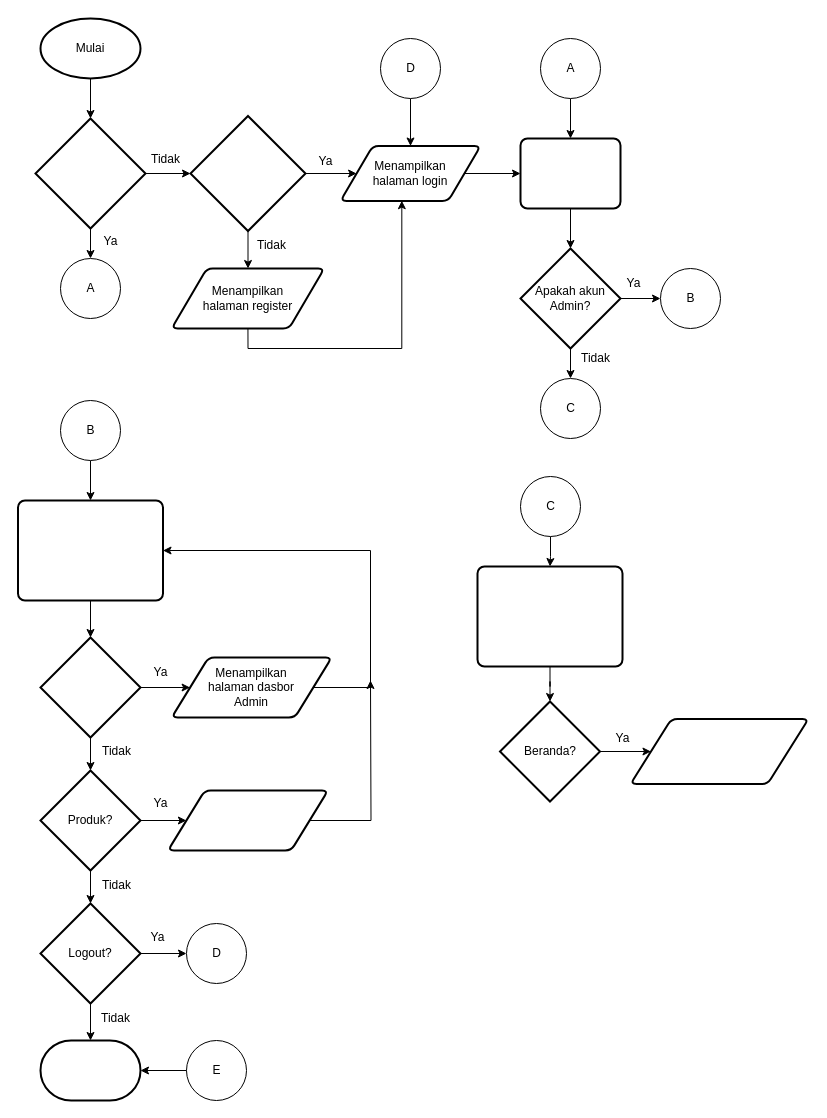
The diagram is 827 pixels wide and 1118 high, and some of its shapes have lost their labels. The shapes that lost their labels are listed below. From the top down, each one's box as (x1, y1, x2, y2) in pixels, then its label:
(34, 117, 146, 229): Apakah Anda sudah login?
(189, 114, 306, 232): Apakah Anda memiliki akun?
(519, 137, 621, 209): Validasi Akun
(16, 499, 164, 601): 1. Dasbor 2. Produk 3. Logout
(476, 565, 623, 667): 1. Beranda 2. Produk 3. Pembelian 4. Keranjang
(39, 636, 141, 738): Dasbor?
(629, 718, 809, 784): Menampilkan selamat datang dan produk unggulan
(166, 789, 328, 851): Menampilkan halaman produk Admin
(39, 1039, 141, 1101): Seleai
